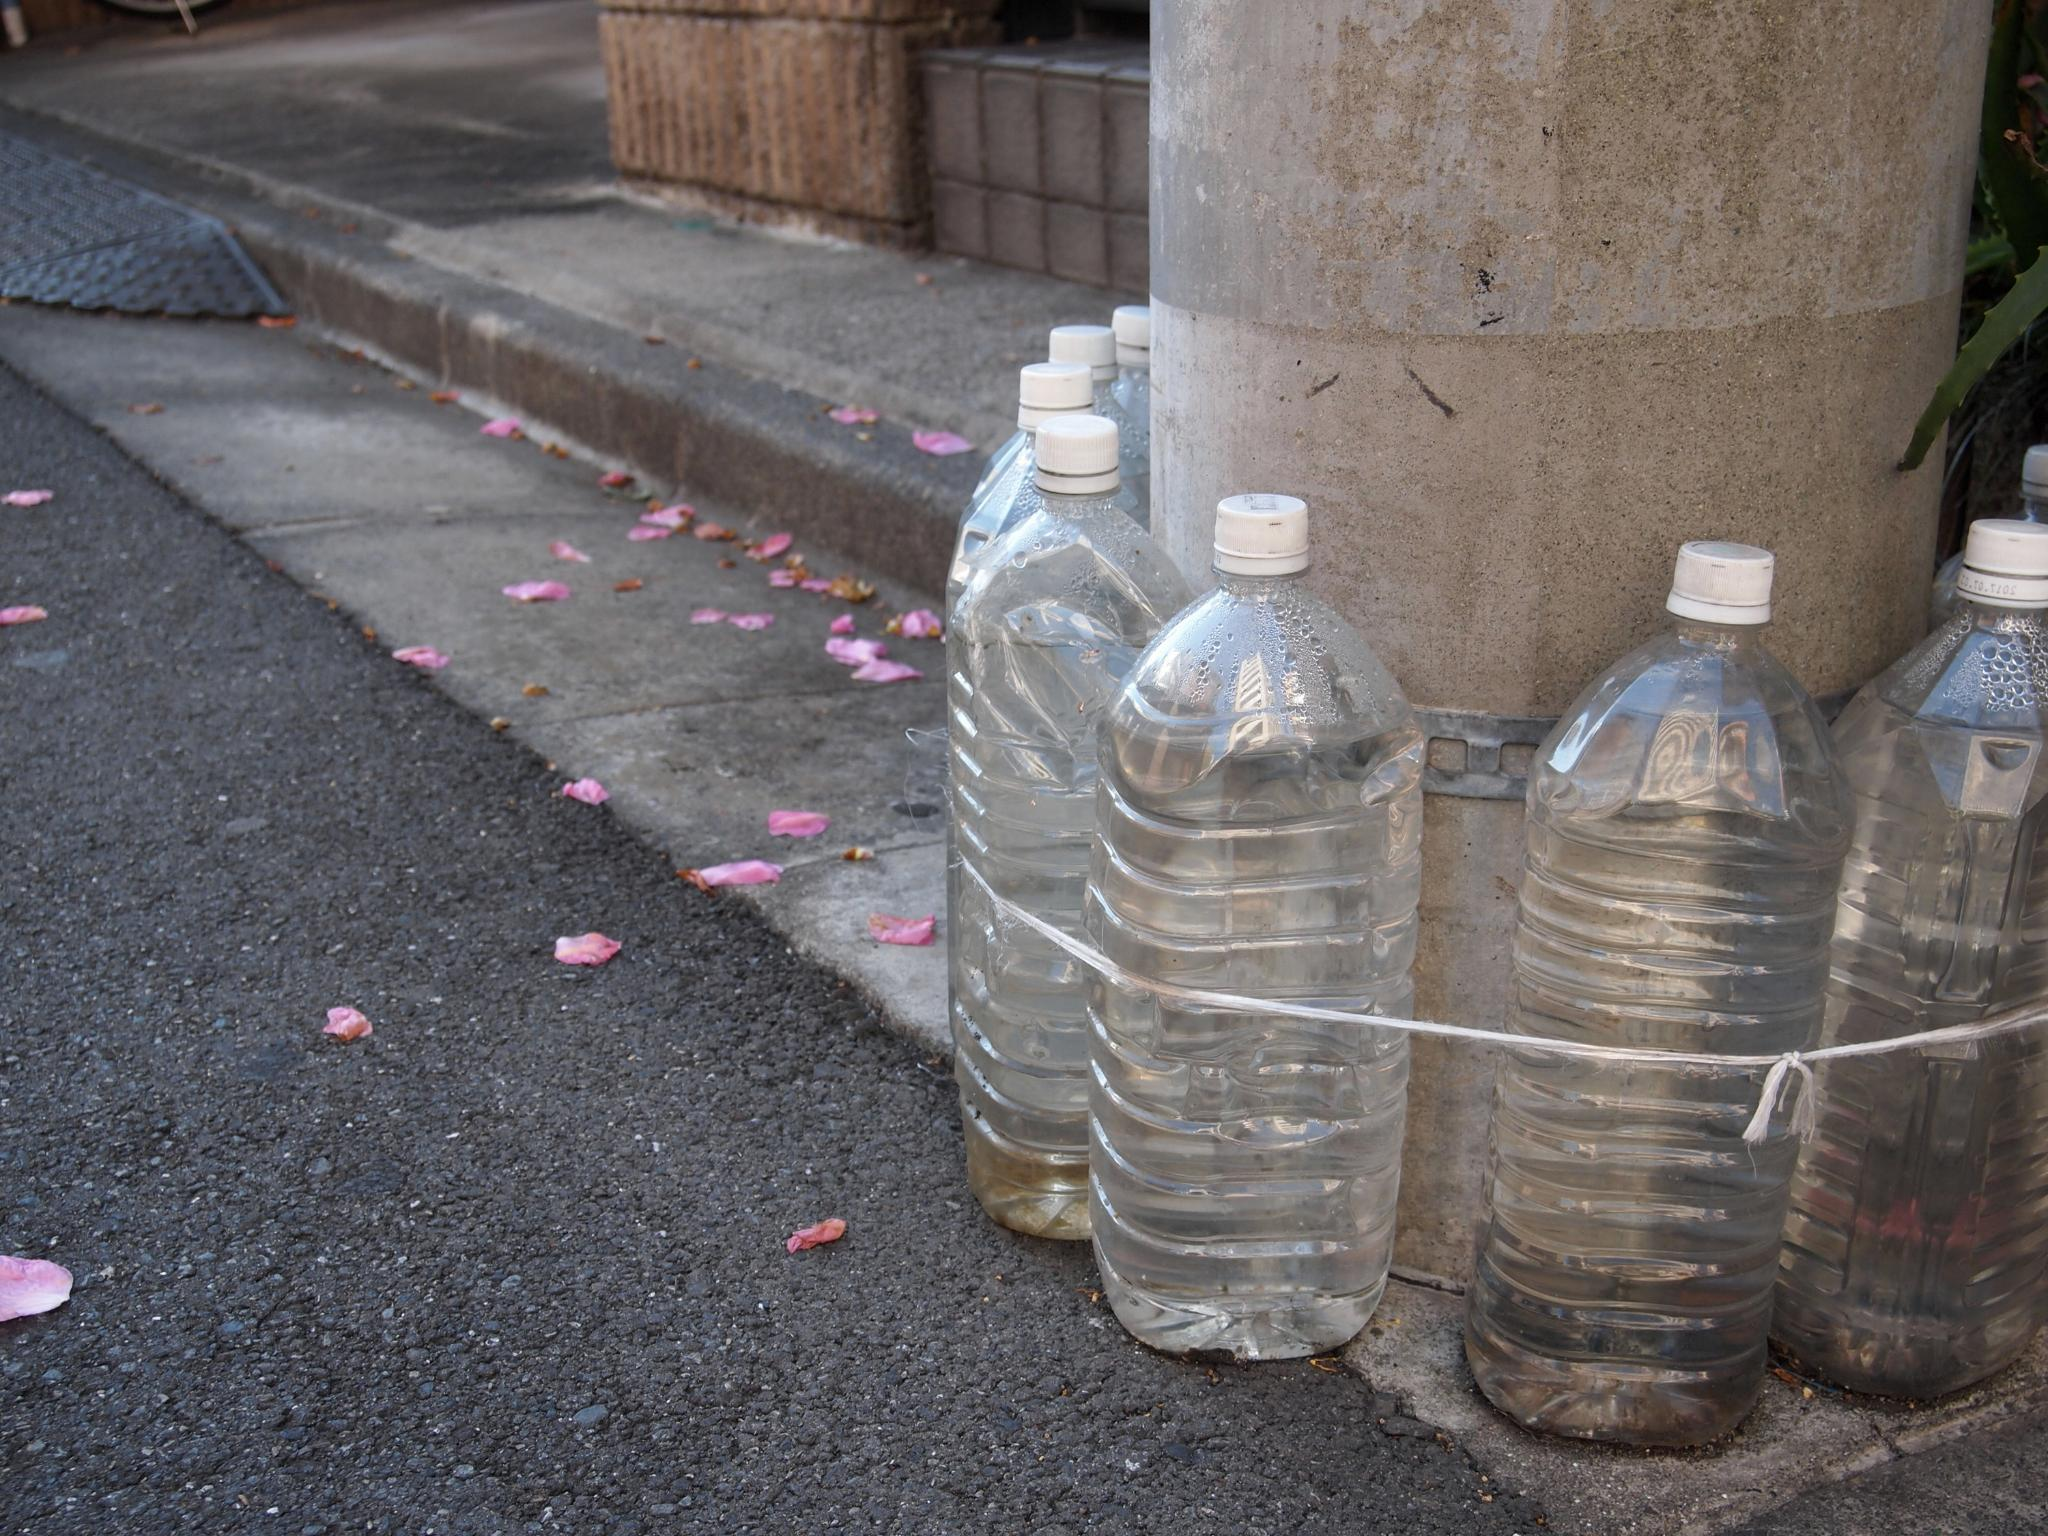Plastic: (1413, 486, 1856, 1457), (1092, 431, 1453, 1402), (892, 395, 1230, 1347), (1737, 468, 2043, 1457)
